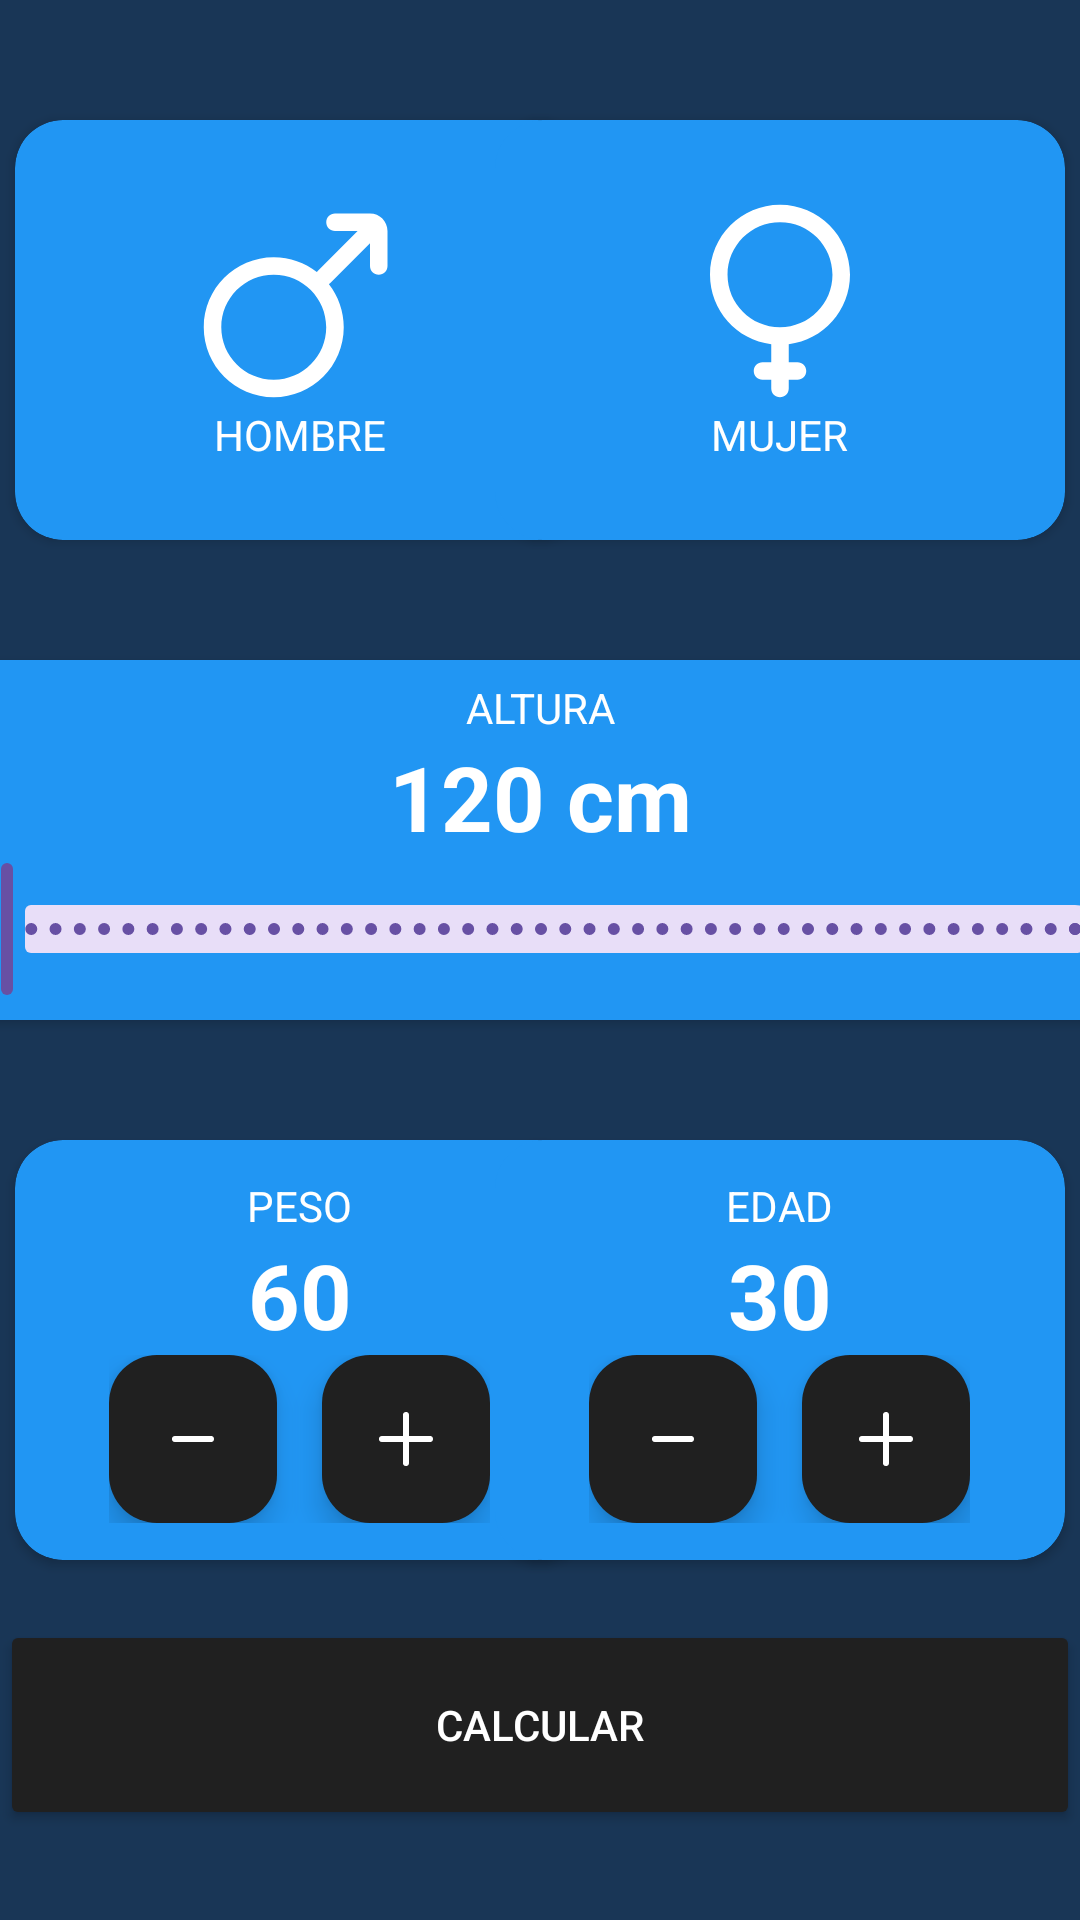

Icon click points for this 1080px×1920px phone screenshot, format (x=x, y=y):
mas: (x=406, y=1439), (x=886, y=1439)
menos: (x=193, y=1439), (x=673, y=1439)
